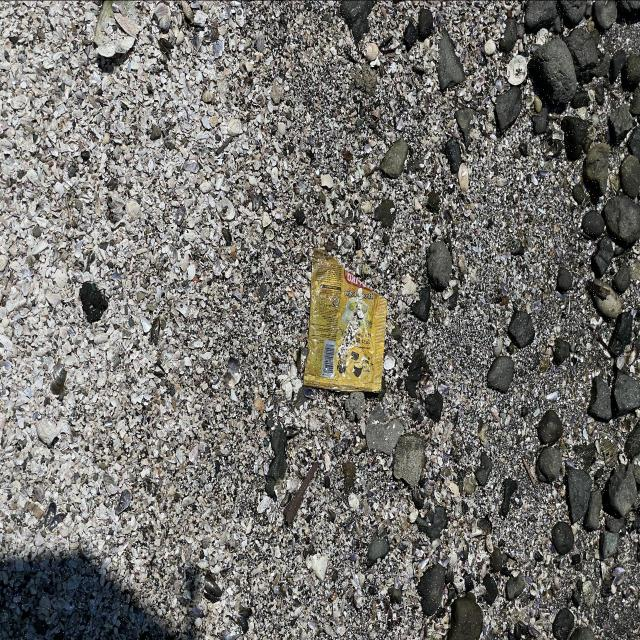plastic_waste: (304, 248, 390, 394)
